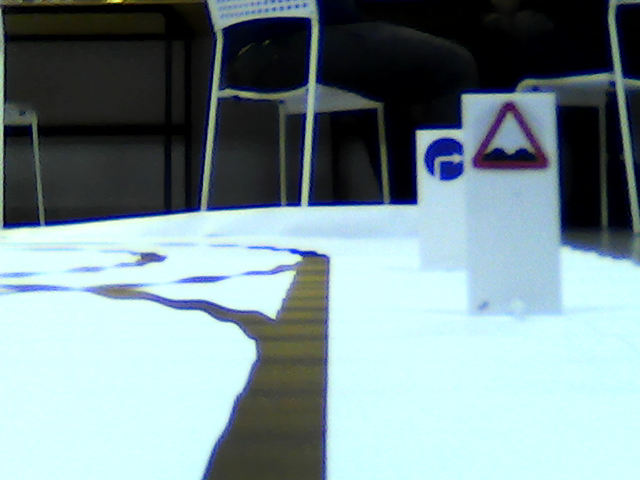Nerov: (471, 101, 552, 172)
Right: (422, 135, 465, 181)
